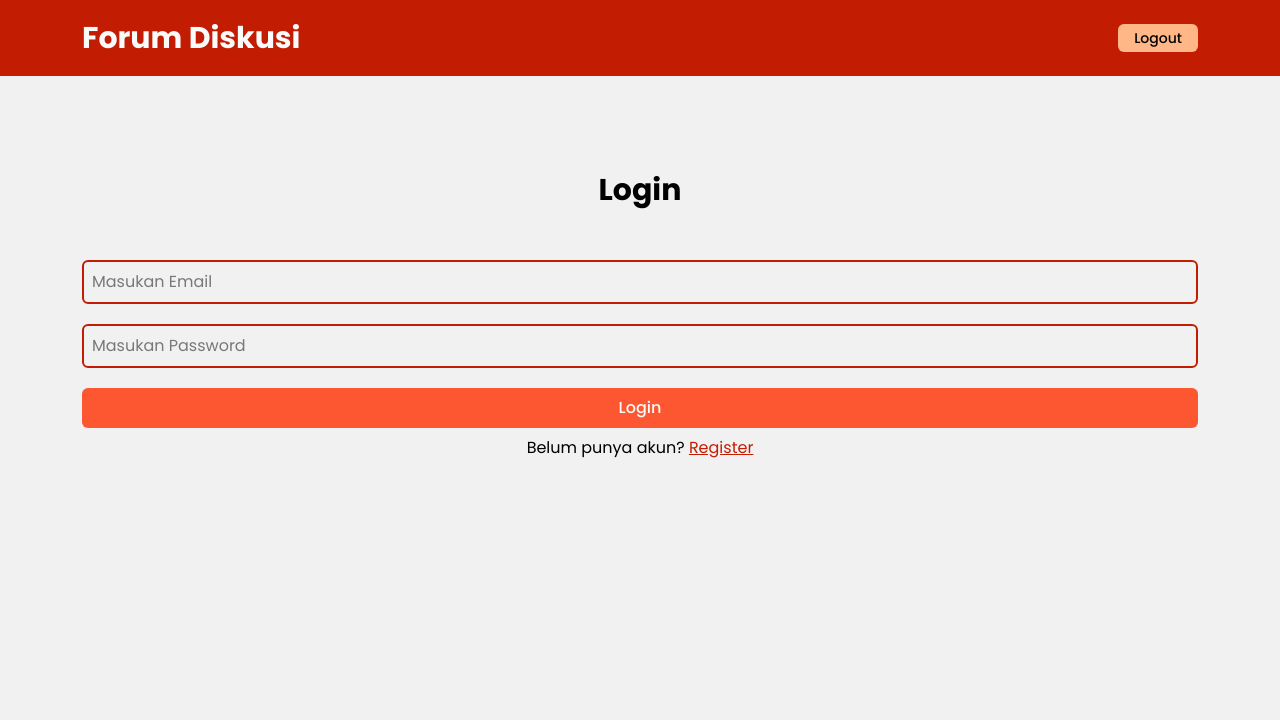
Test: Login spec › should display homepage when login information is correct
Type "max@example.com" into the field with id "email".
click(640, 282); type("max@example.com")  # box [82,260,1198,304]
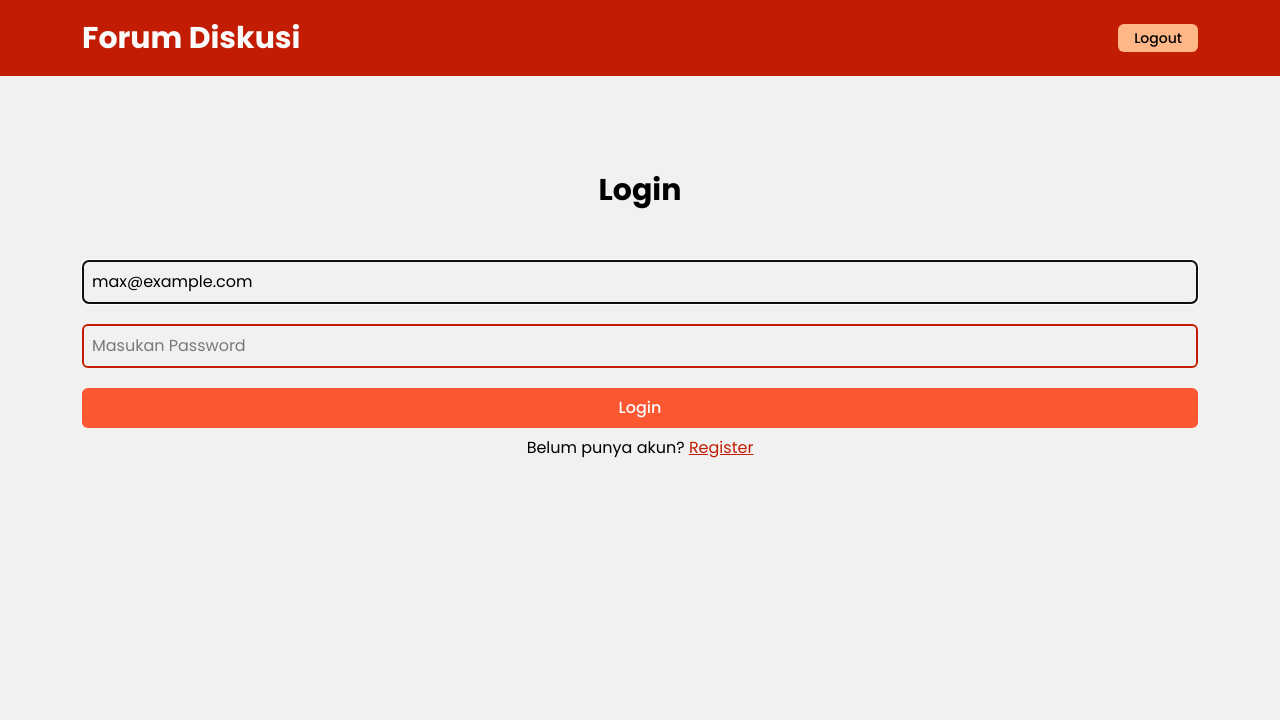
Type "maxdesanta12" into the password field with placeholder "Masukan Password".
click(640, 346); type("maxdesanta12")  # box [82,324,1198,368]
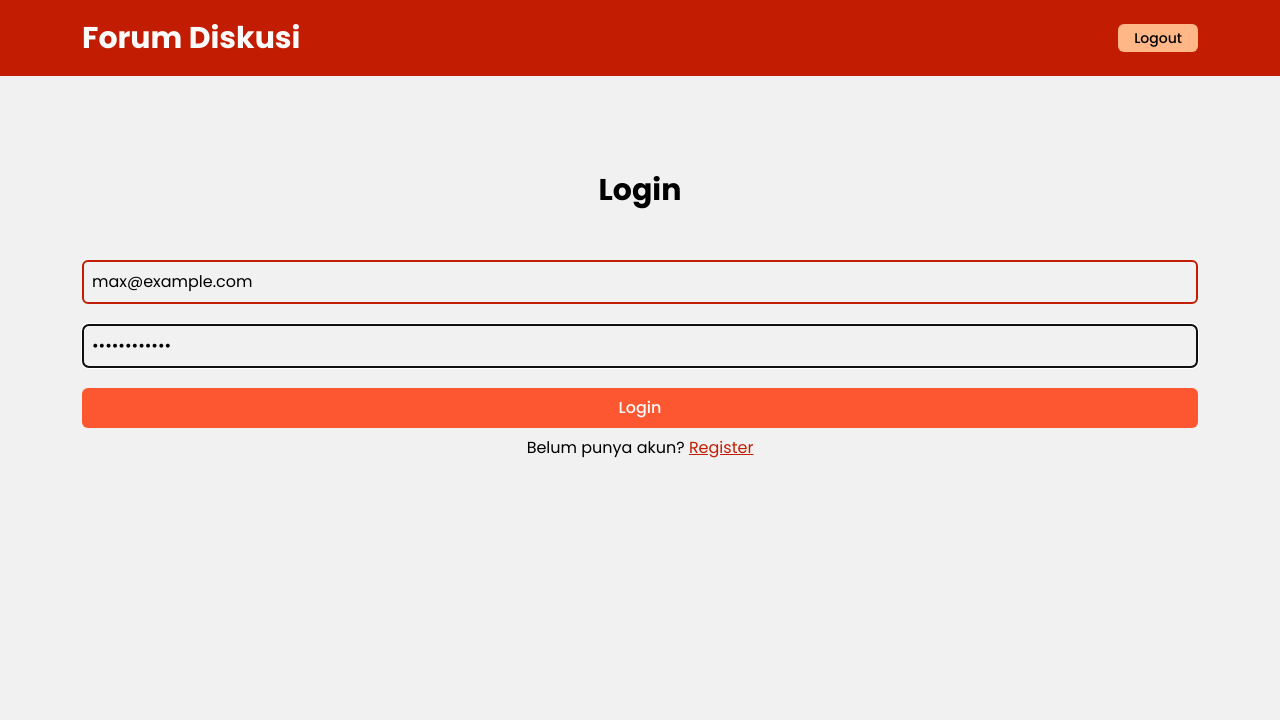
Click the submit button.
click(640, 408)  # box [82,388,1198,428]
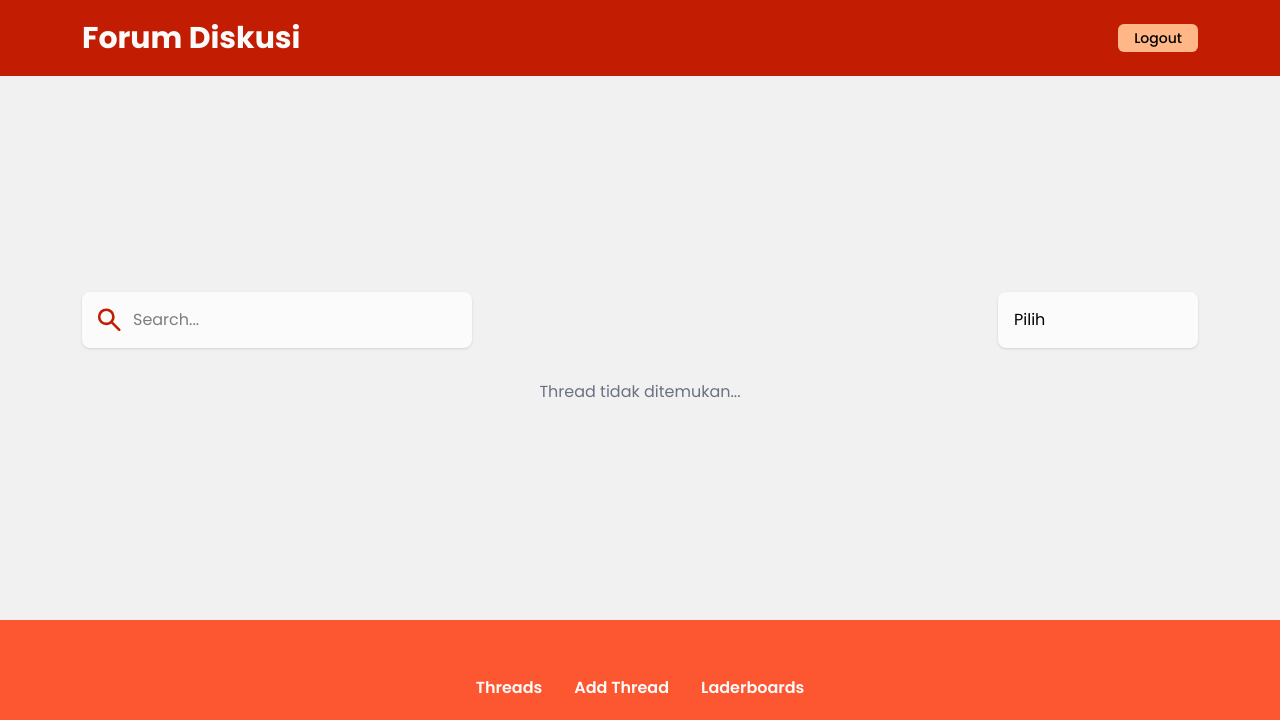
expect the field with id "email" is gone: met
